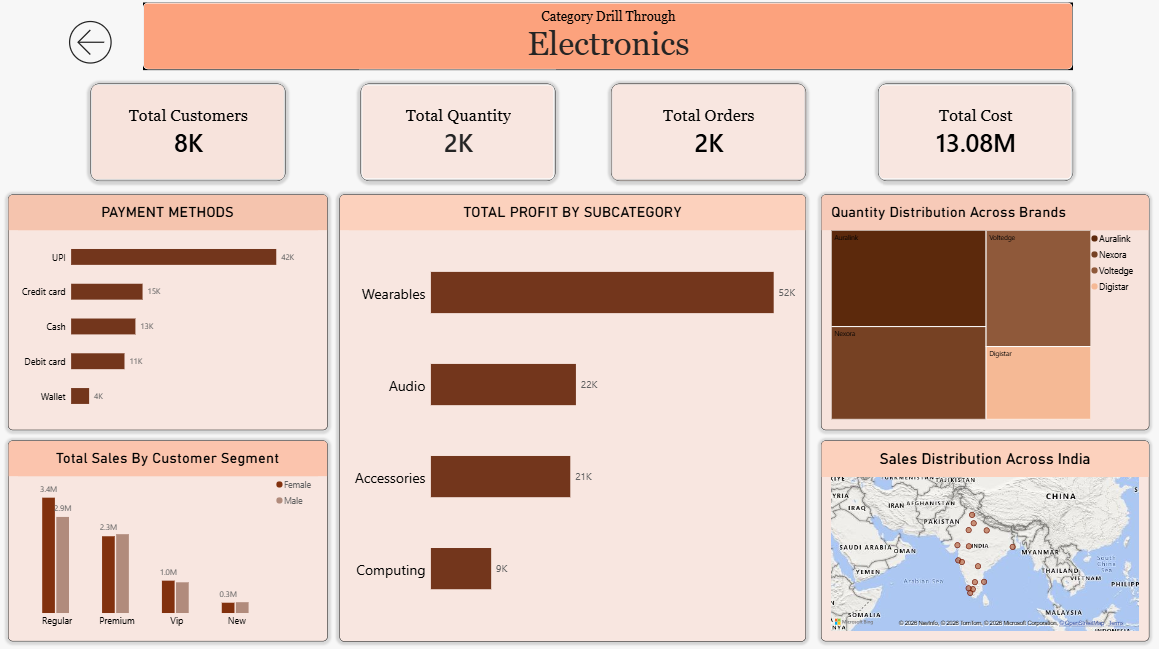

What the dashboard file says about the page in this screenshot:
{"tool":"powerbi","page":{"name":"Category Drill trhough","canvas":[1920,1080],"ordinal":1},"visuals":[{"type":"map","title":"Sales Distribution Across India","fields":{"Category":["Stores.City"]},"box":[1346.8,734.4,534.3,326.9],"z":0},{"type":"clusteredBarChart","title":"TOTAL PROFIT BY SUBCATEGORY","fields":{"Category":["Products.Subcategory"],"Y":["Flat Table.Total Profit"]},"box":[563.6,334.3,758.8,727.1],"z":1},{"type":"clusteredBarChart","title":"PAYMENT METHODS","fields":{"Category":["Payment.Payment_Method"],"Y":["CountNonNull(Payment.Payment_Method)"]},"box":[24.4,334.3,519.7,383.1],"z":2},{"type":"cardVisual","fields":{"Data":["Min(Products.Category)"]},"box":[244,22,1512.7,109.8],"z":3},{"type":"actionButton","box":[61,22,195.2,129.3],"z":4},{"type":"cardVisual","fields":{"Data":["CountNonNull(Flat Table.Order_ID)"]},"box":[1005.2,153.7,317.2,158.6],"z":5},{"type":"cardVisual","fields":{"Data":["Flat Table.Total Quantity"]},"box":[597.8,153.7,317.2,158.6],"z":6},{"type":"cardVisual","fields":{"Data":["Sum(Flat Table.Total_Cost)"]},"box":[1439.5,153.7,317.2,158.6],"z":7},{"type":"clusteredColumnChart","title":"Total Sales By Customer Segment","fields":{"Category":["Customers.Customer_Segment"],"Series":["Customers.Gender"],"Y":["Flat Table.Total Sales"]},"box":[24.4,734.4,519.7,326.9],"z":8},{"type":"treemap","title":"Quantity Distribution Across Brands","fields":{"Group":["Products.Brand"],"Values":["Flat Table.Total Quantity"]},"box":[1346.8,334.3,534.3,383.1],"z":9},{"type":"cardVisual","fields":{"Data":["Count(Orders.Customer_ID)"]},"box":[158.6,153.7,317.2,158.6],"z":10}]}

Visuals, with their boxes in screenshot pixels (x1, y1, x2, y2), scaled from the page's 1920x1080 canvas onto the 1159x649 screenshot:
"Sales Distribution Across India" map: bbox(813, 441, 1136, 638)
"TOTAL PROFIT BY SUBCATEGORY" clusteredBarChart: bbox(340, 201, 798, 638)
"PAYMENT METHODS" clusteredBarChart: bbox(15, 201, 328, 431)
cardVisual - Min(Products.Category): bbox(147, 13, 1060, 79)
actionButton: bbox(37, 13, 155, 91)
cardVisual - CountNonNull(Flat Table.Order_ID): bbox(607, 92, 798, 188)
cardVisual - Flat Table.Total Quantity: bbox(361, 92, 552, 188)
cardVisual - Sum(Flat Table.Total_Cost): bbox(869, 92, 1060, 188)
"Total Sales By Customer Segment" clusteredColumnChart: bbox(15, 441, 328, 638)
"Quantity Distribution Across Brands" treemap: bbox(813, 201, 1136, 431)
cardVisual - Count(Orders.Customer_ID): bbox(96, 92, 287, 188)
